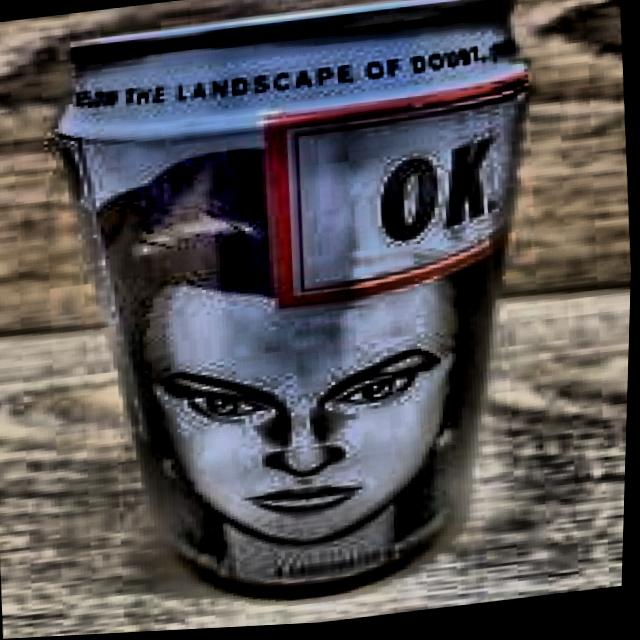Cans: (39, 0, 556, 630)
